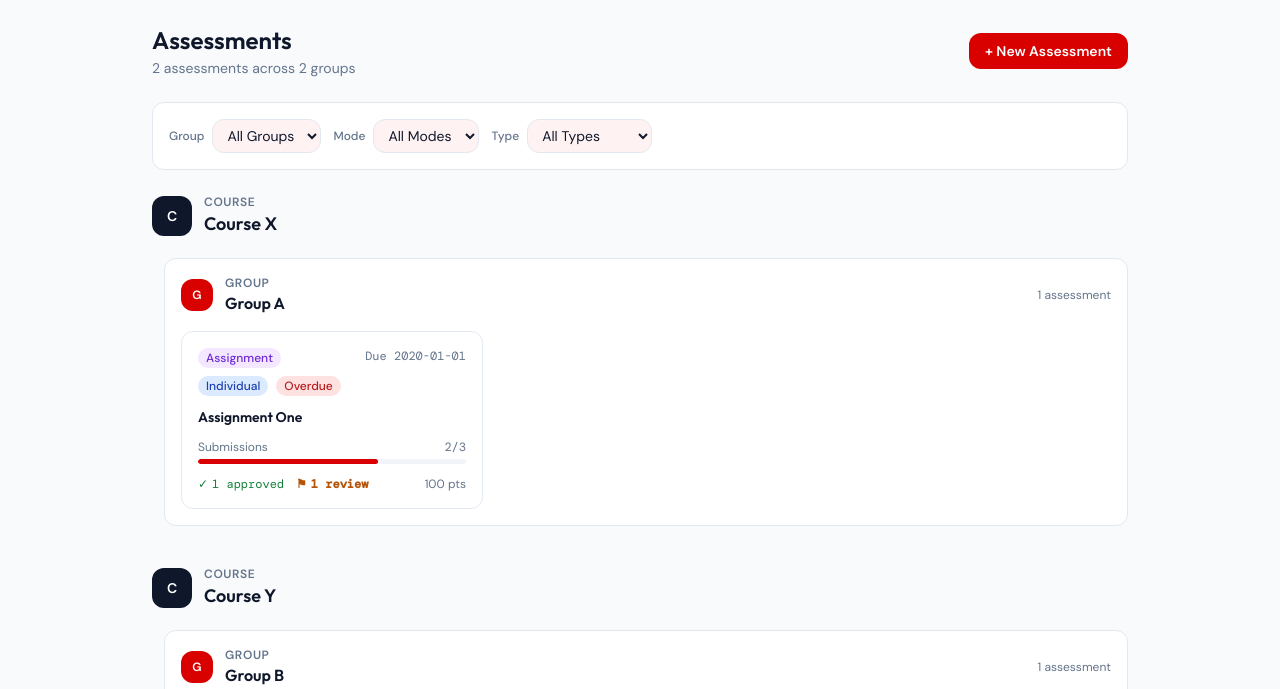
it: TeacherAssessments - detail view › shows rubric tab with criteria
What coordinates should you click on to do the following:
click the text "Assignment One"
I would click on:
 (250, 417)
Its box is left=198, top=408, right=302, bottom=426.
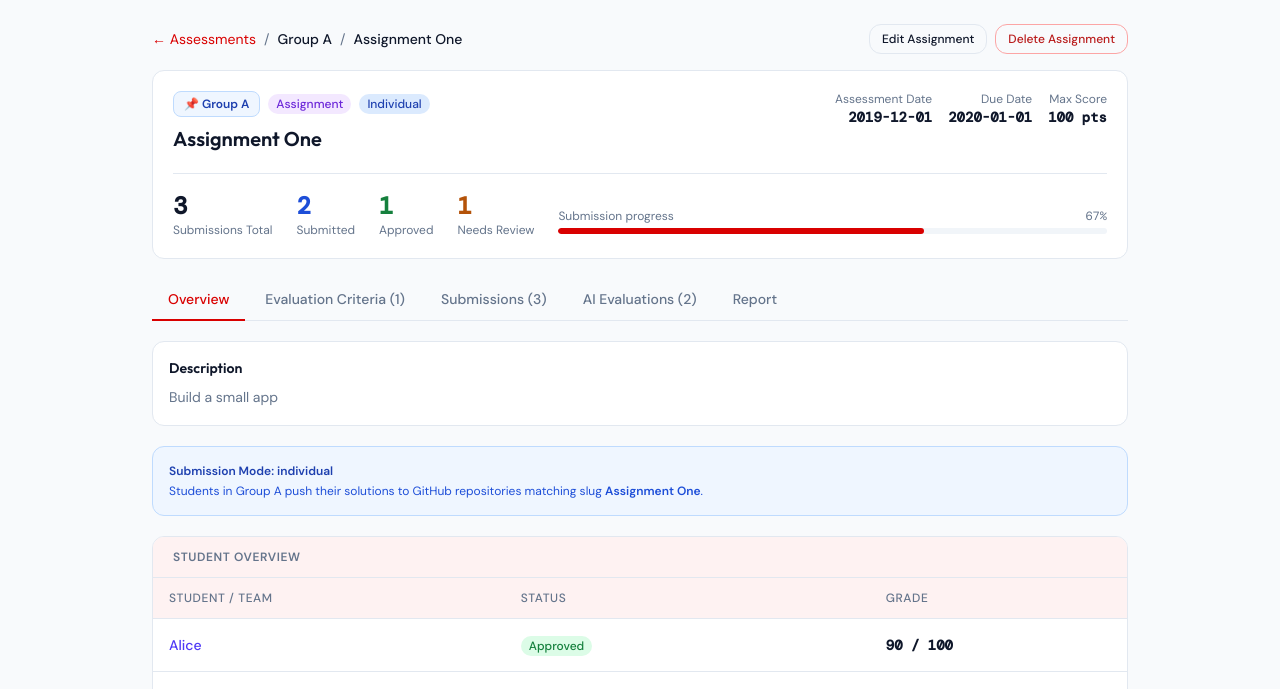
Result: the button "← Assessments" is shown at left=152, top=29, right=256, bottom=49
What coordinates should you click on to do the following:
click the button "Evaluation Criteria (1)"
I would click on:
 (335, 300)
Its box is left=249, top=279, right=421, bottom=321.
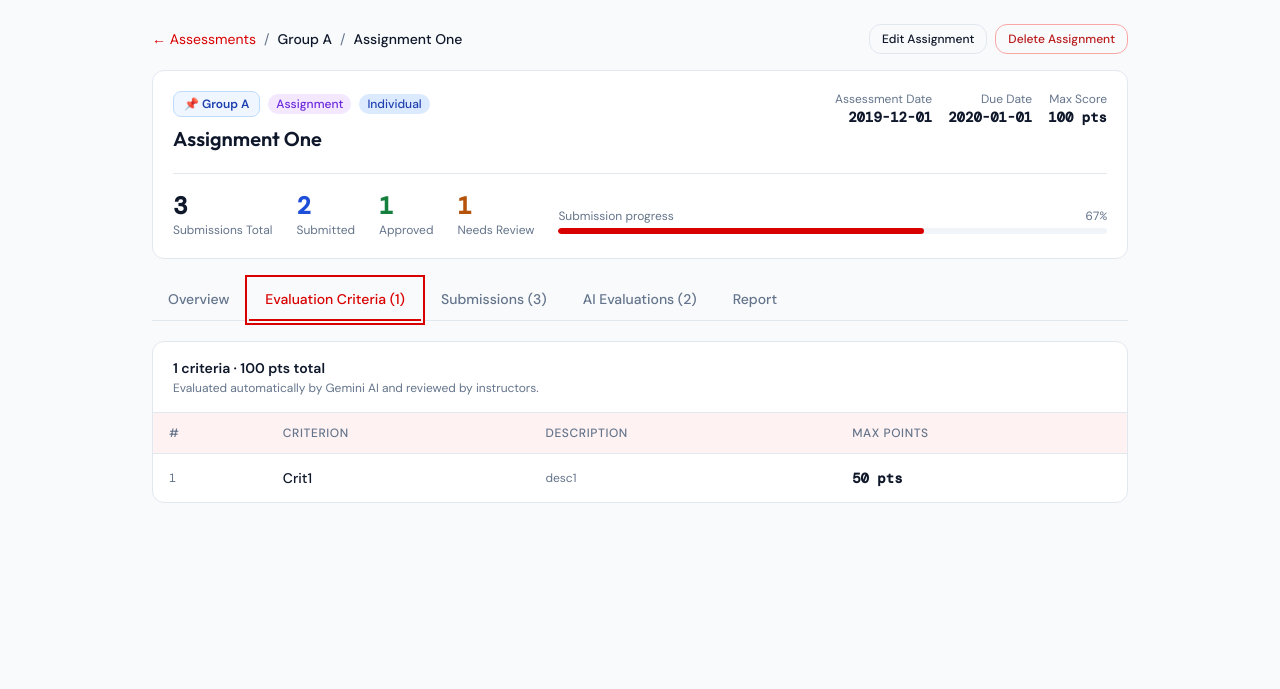
Result: the text "Crit1" is shown at left=267, top=454, right=530, bottom=502
Result: the text "desc1" is shown at left=530, top=454, right=836, bottom=502
Result: the text "50 pts" is shown at left=836, top=454, right=1127, bottom=502
